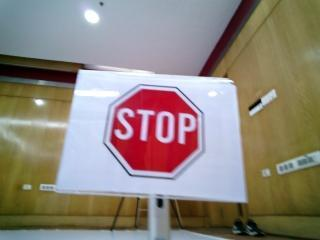stop: (93, 80, 217, 190)
